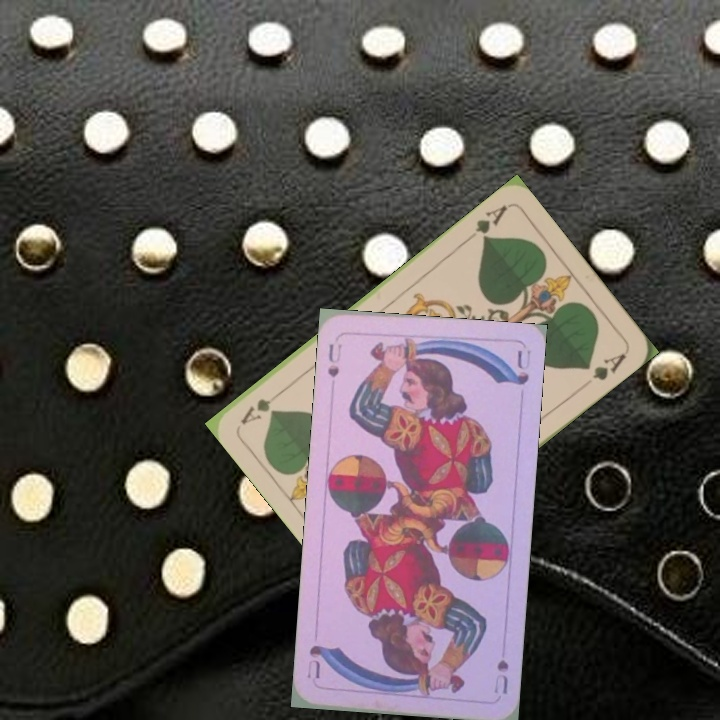GA: (471, 201, 510, 243)
SU: (490, 655, 511, 696), (324, 340, 345, 380)
